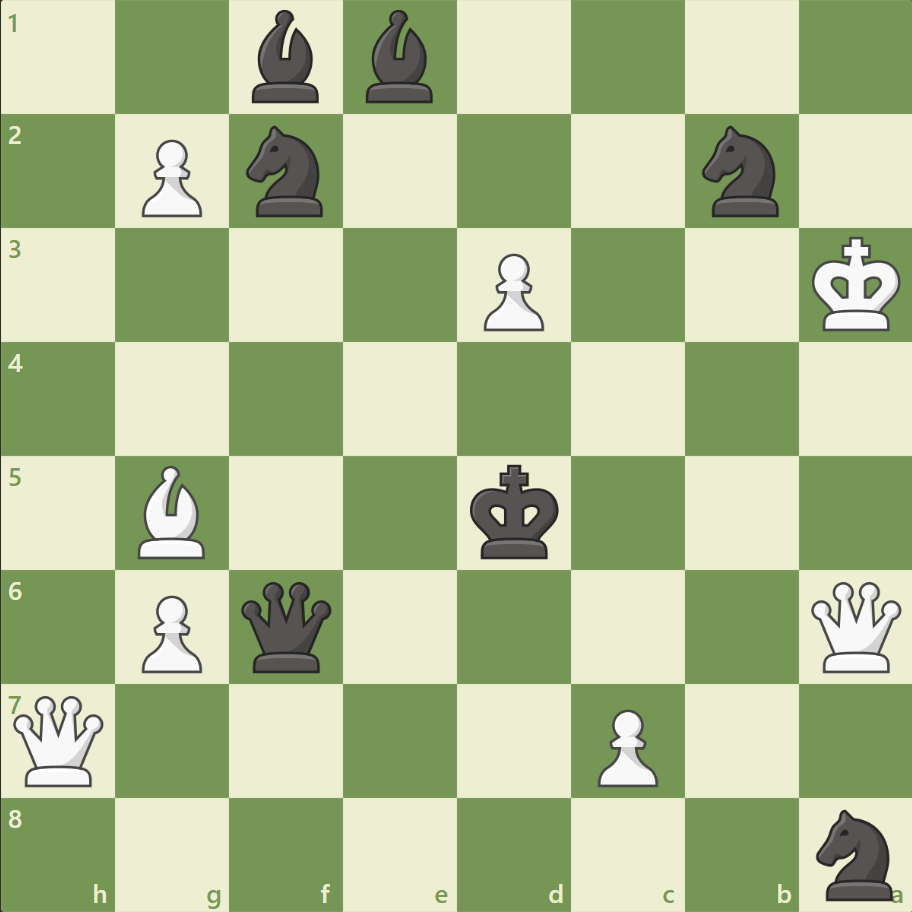B: (131, 460, 215, 563)
K: (806, 231, 906, 339)
P: (133, 586, 208, 677), (474, 246, 549, 337), (133, 132, 208, 223), (588, 700, 662, 791)
Q: (805, 576, 904, 676), (10, 690, 109, 789)
b: (358, 6, 442, 109), (244, 6, 328, 109)
k: (465, 458, 565, 566)
n: (806, 802, 903, 904), (692, 121, 789, 223), (238, 121, 335, 223)
q: (237, 576, 336, 676)
